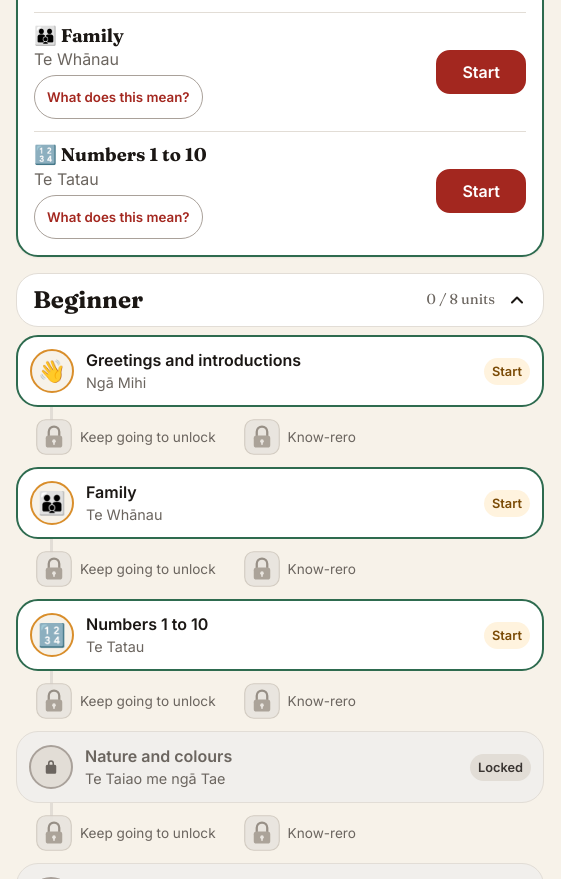
Scenario: Kiwiana on the Path › reveals the Finish hint when a locked path node is tapped, and opens nothing
(page scrolled)
What coordinates should you click on to do the following:
click the 1st button "Keep going to unlock"
I would click on:
 (126, 437)
Its box is [28,415,224,459].
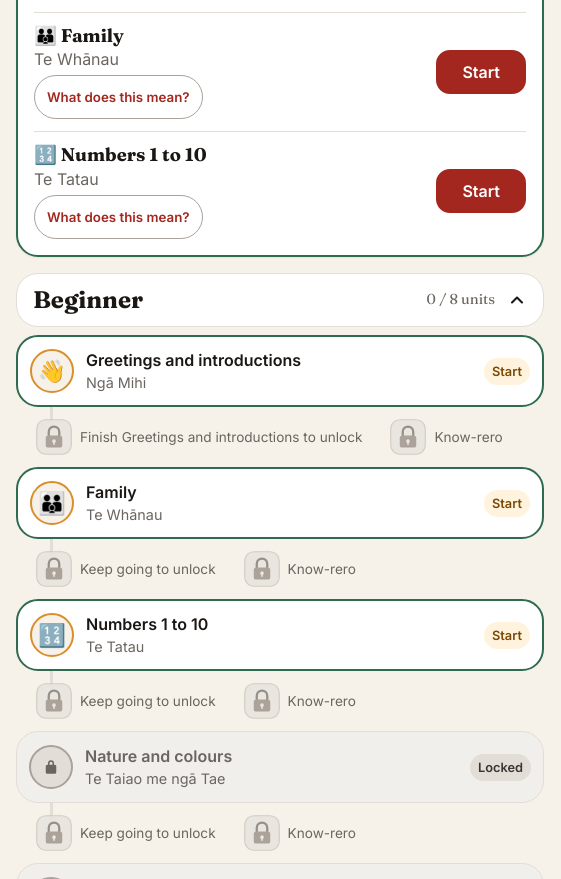
Result: the button "Finish Greetings and introductions to unlock" is shown at [28,415,370,459]
